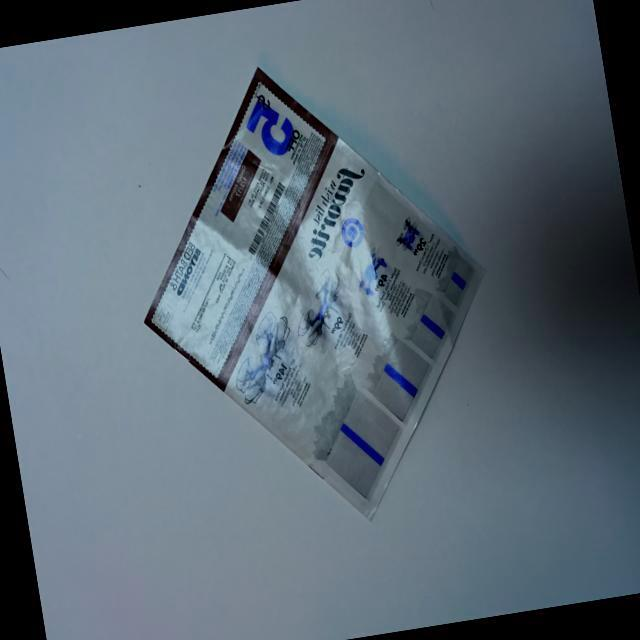paper: (96, 24, 534, 576)
